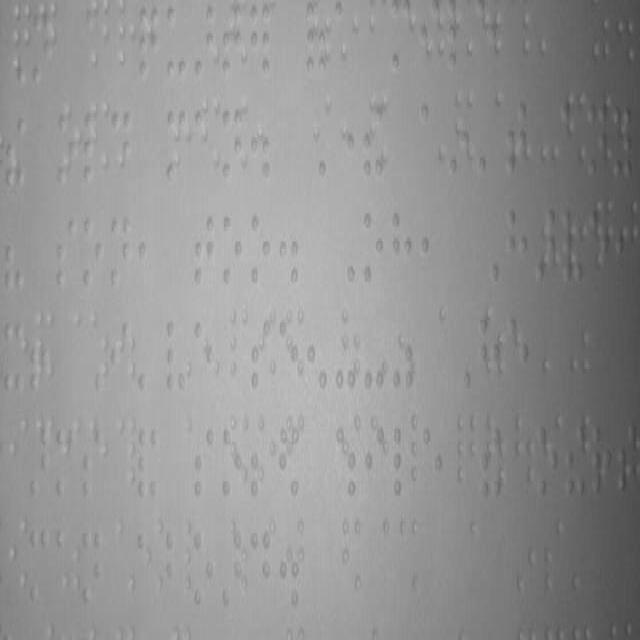braiile: (390, 207, 414, 296), (506, 202, 530, 287), (31, 11, 55, 91), (166, 2, 190, 82), (221, 104, 245, 184), (108, 214, 132, 294), (192, 211, 216, 291), (28, 524, 52, 604), (80, 428, 106, 501), (82, 211, 105, 291), (192, 424, 215, 504), (1, 320, 25, 396), (250, 210, 272, 292), (249, 528, 271, 610), (420, 96, 440, 184), (586, 104, 608, 184), (55, 216, 77, 296), (362, 206, 384, 286), (193, 526, 215, 606), (166, 528, 187, 610), (390, 1, 412, 79), (81, 528, 103, 606), (363, 426, 385, 498), (166, 316, 186, 394), (392, 423, 413, 497), (222, 211, 242, 287), (423, 424, 443, 500)
